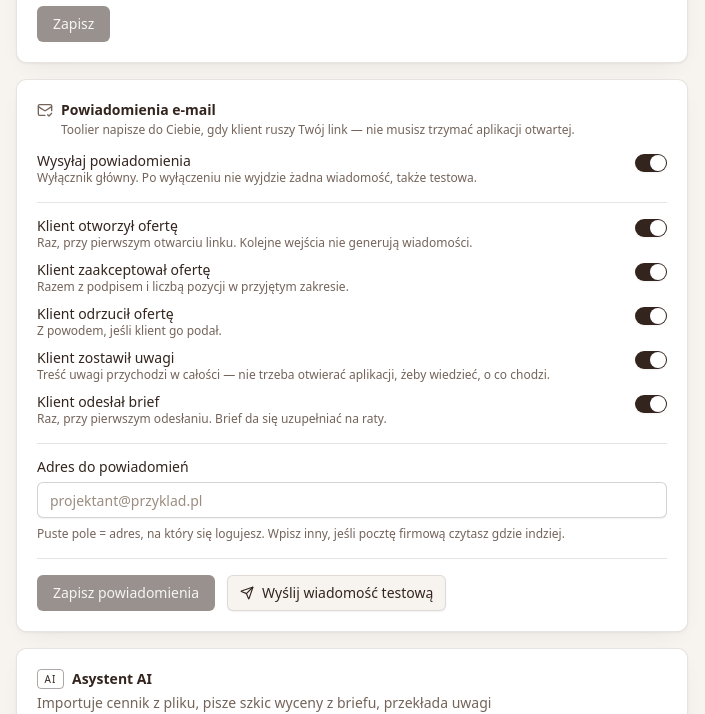
Test: Powiadomienia e-mail (T-116) › test jest nieczynny, dopoki sa niezapisane zmiany
(page scrolled)
Expected: the button "Wyślij wiadomość testową" is enabled, [227, 575, 446, 611]
Click the switch named "Klient zostawił uwagi" in the row of "Klient zostawił uwagi".
click(651, 360)  # box [635, 351, 667, 369]
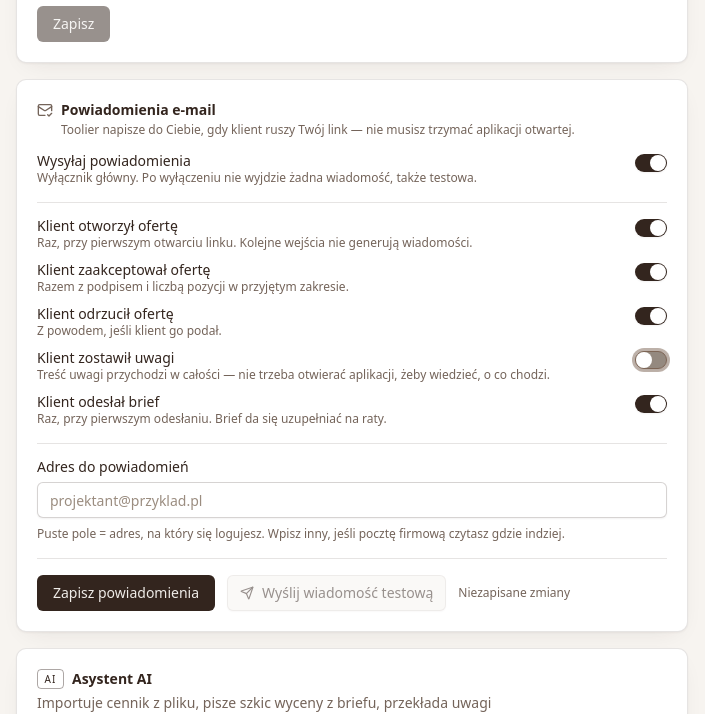
Expected: the button "Wyślij wiadomość testową" is disabled, [227, 575, 446, 611]
